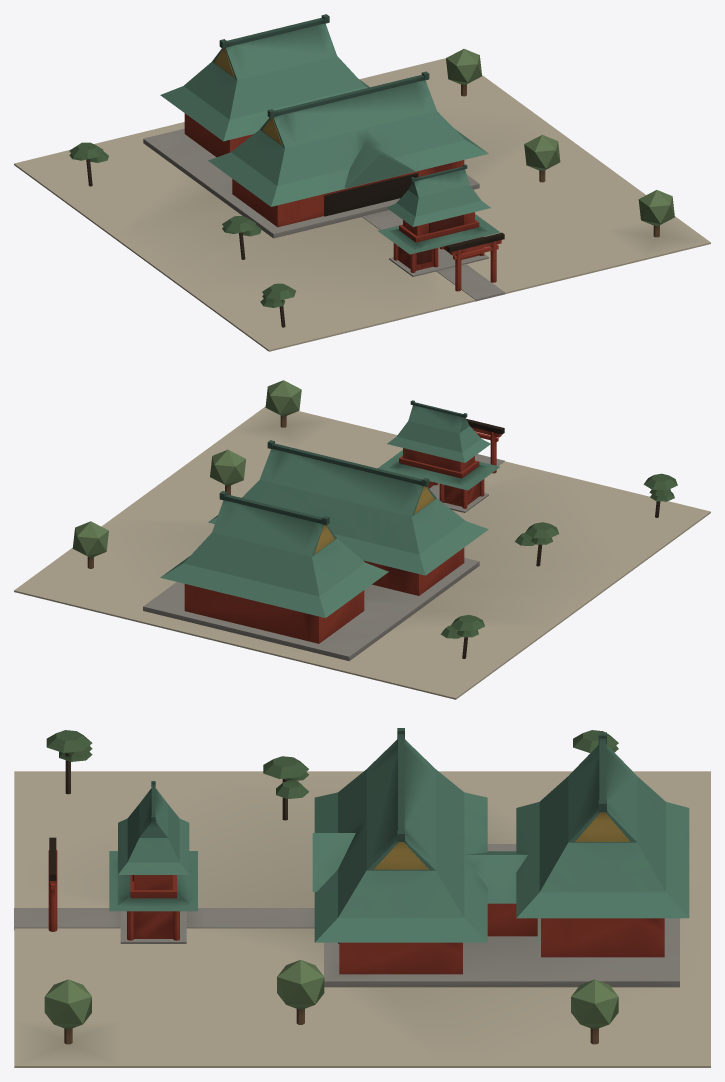
The model's file is kanda-myojin.glb.
The picture shows the model from 3 angles, top to bottom: view 1: azimuth 30°, elevation 25°; view 2: azimuth 150°, elevation 25°; view 3: azimuth 270°, elevation 25°; orthographic projection. The views are drawn at different scales.
Visible parts, largest first — view 1: p0_precinct, p2_shrine, p1_torii; view 2: p0_precinct, p2_shrine, p1_torii; view 3: p0_precinct, p2_shrine, p1_torii.
Boxes of the visible parts, box(x1,y1,x2,y2) form: p0_precinct: box(14, 58, 710, 351); p2_shrine: box(69, 14, 674, 327); p1_torii: box(377, 164, 504, 291); p0_precinct: box(14, 406, 710, 699); p2_shrine: box(72, 380, 677, 661); p1_torii: box(377, 400, 504, 512); p0_precinct: box(14, 771, 710, 1067); p2_shrine: box(44, 728, 689, 1044); p1_torii: box(48, 781, 197, 943).
Size of the model in its own units: 90 by 21.81 by 90.04.
